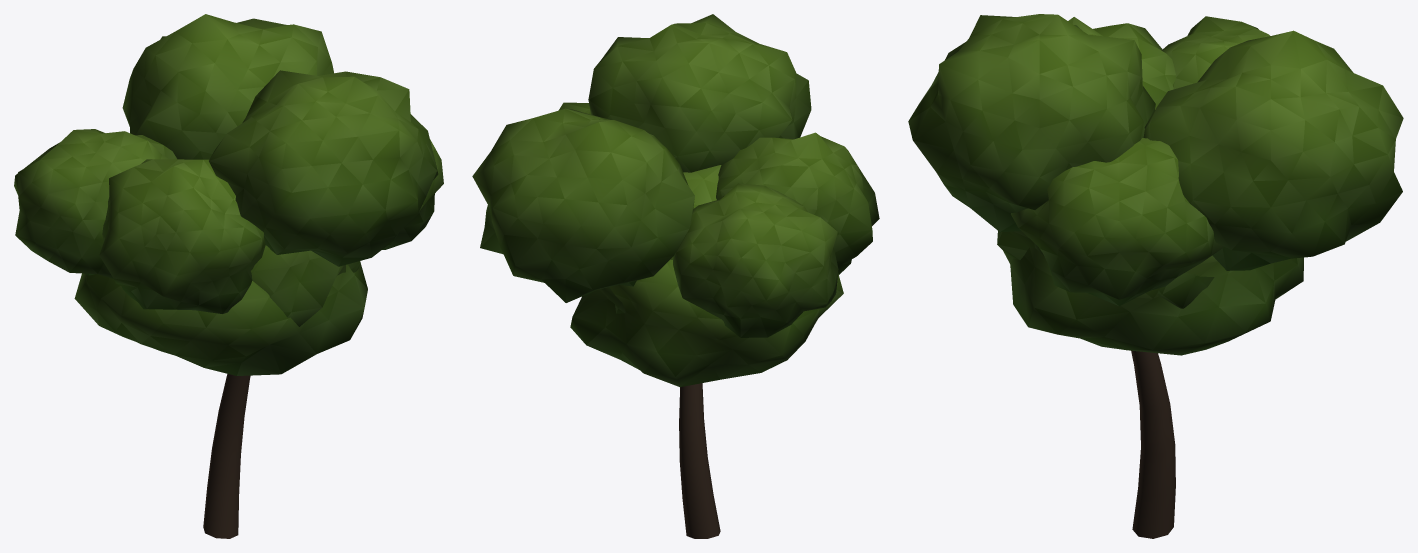
File: tree_b_3.glb
3 views of the same model, side by side, from view 1: azimuth 30°, elevation 25°; view 2: azimuth 150°, elevation 25°; view 3: azimuth 270°, elevation 25° (orthographic). The views are drawn at different scales.
Parts seen in each view (by area): view 1: tree_b_3; view 2: tree_b_3; view 3: tree_b_3.
Boxes of the visible parts, x1,y1,x2,y2 form: tree_b_3: (14,14,443,538); tree_b_3: (472,14,879,538); tree_b_3: (908,14,1403,538).
Size of the model in its own units: 7.34 by 9.11 by 7.62.
